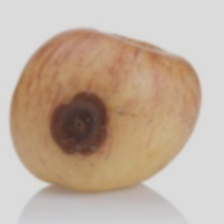apple: (26, 38, 167, 216)
